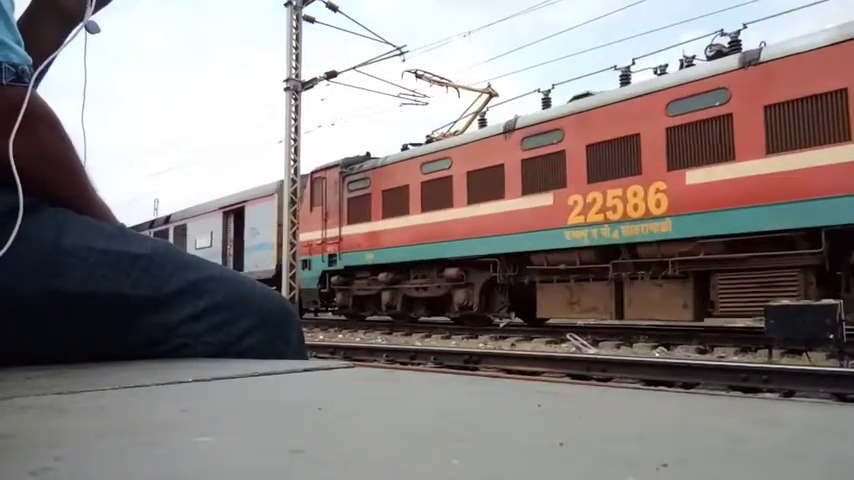Boogie: (552, 188, 687, 230)
